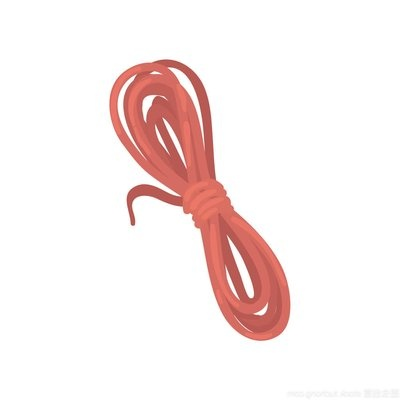9/可回收垃圾/绳子: (108, 59, 290, 341)
